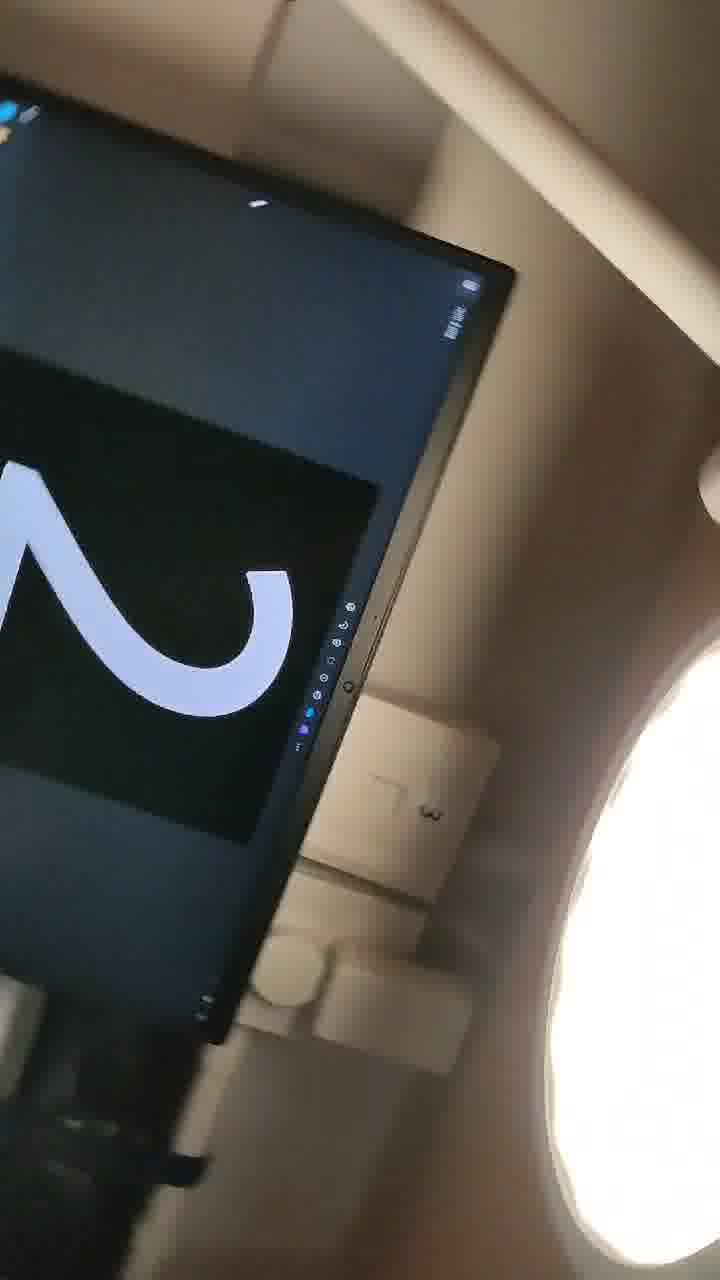two: (1, 336, 355, 762)
